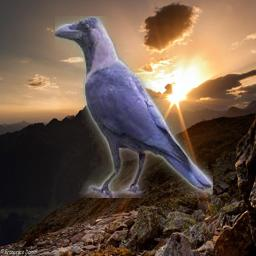Crow: (55, 16, 213, 198)
